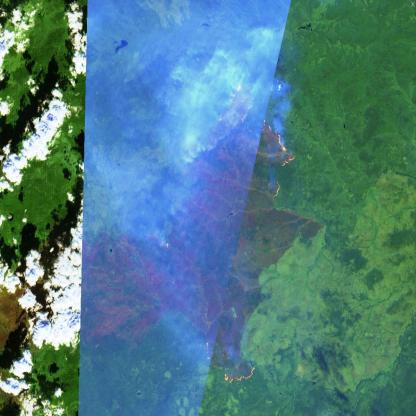fire: (212, 75, 300, 208), (199, 333, 261, 393), (146, 218, 176, 252)
